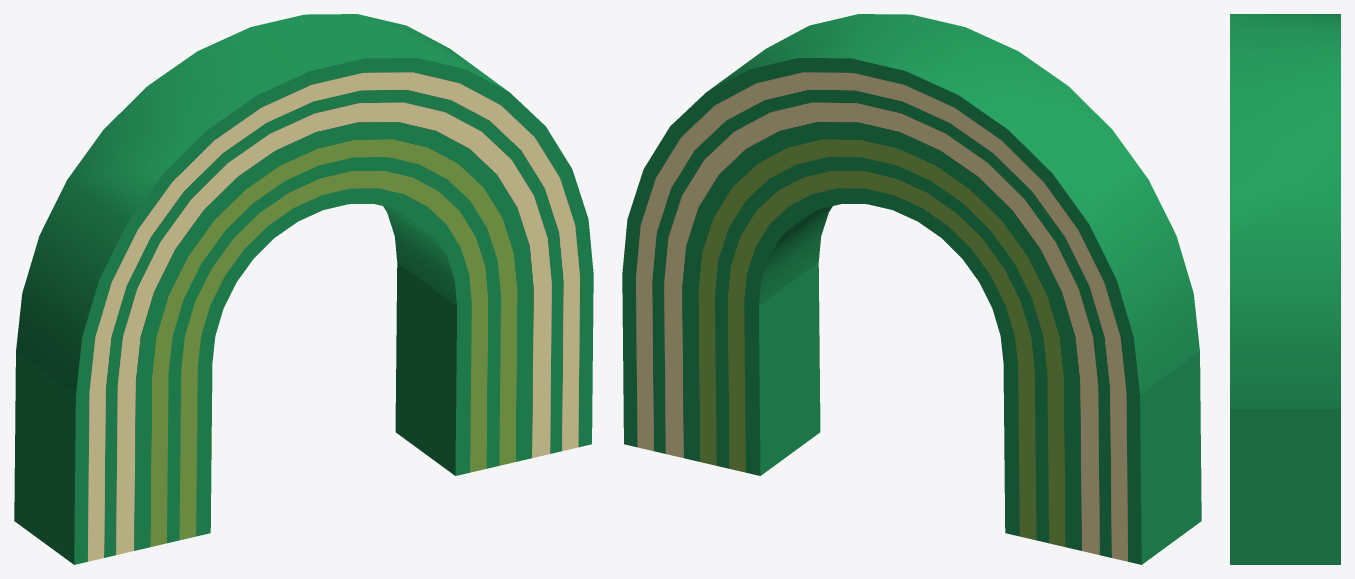
Rendered from M_arche_03.fbx.
The picture shows the model from 3 angles, left to right: view 1: azimuth 30°, elevation 25°; view 2: azimuth 150°, elevation 25°; view 3: azimuth 270°, elevation 25°; orthographic projection. The views are drawn at different scales.
Visible parts, largest first — view 1: Cube.012; view 2: Cube.012; view 3: Cube.012.
Boxes of the visible parts, left/top/right/bottom form: Cube.012: left=14, top=14, right=593, bottom=564; Cube.012: left=622, top=14, right=1201, bottom=564; Cube.012: left=1230, top=14, right=1340, bottom=564.
Bounding box in the file's own units: 459 × 374 × 91.84.
